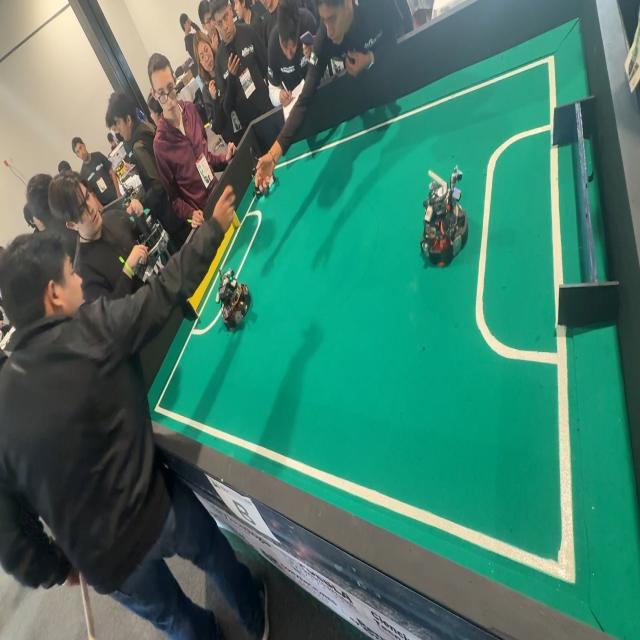Robot: (412, 162, 470, 272), (214, 264, 252, 334)
